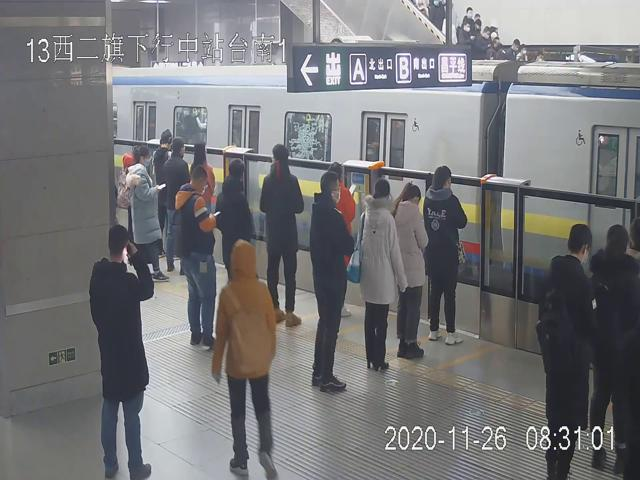person: (210, 237, 277, 480), (91, 223, 154, 480), (539, 224, 596, 480), (308, 172, 354, 392), (358, 180, 406, 372), (422, 164, 467, 344), (175, 165, 219, 348), (260, 144, 304, 326), (127, 145, 169, 281), (396, 181, 427, 359), (215, 159, 258, 282), (164, 137, 189, 275)
